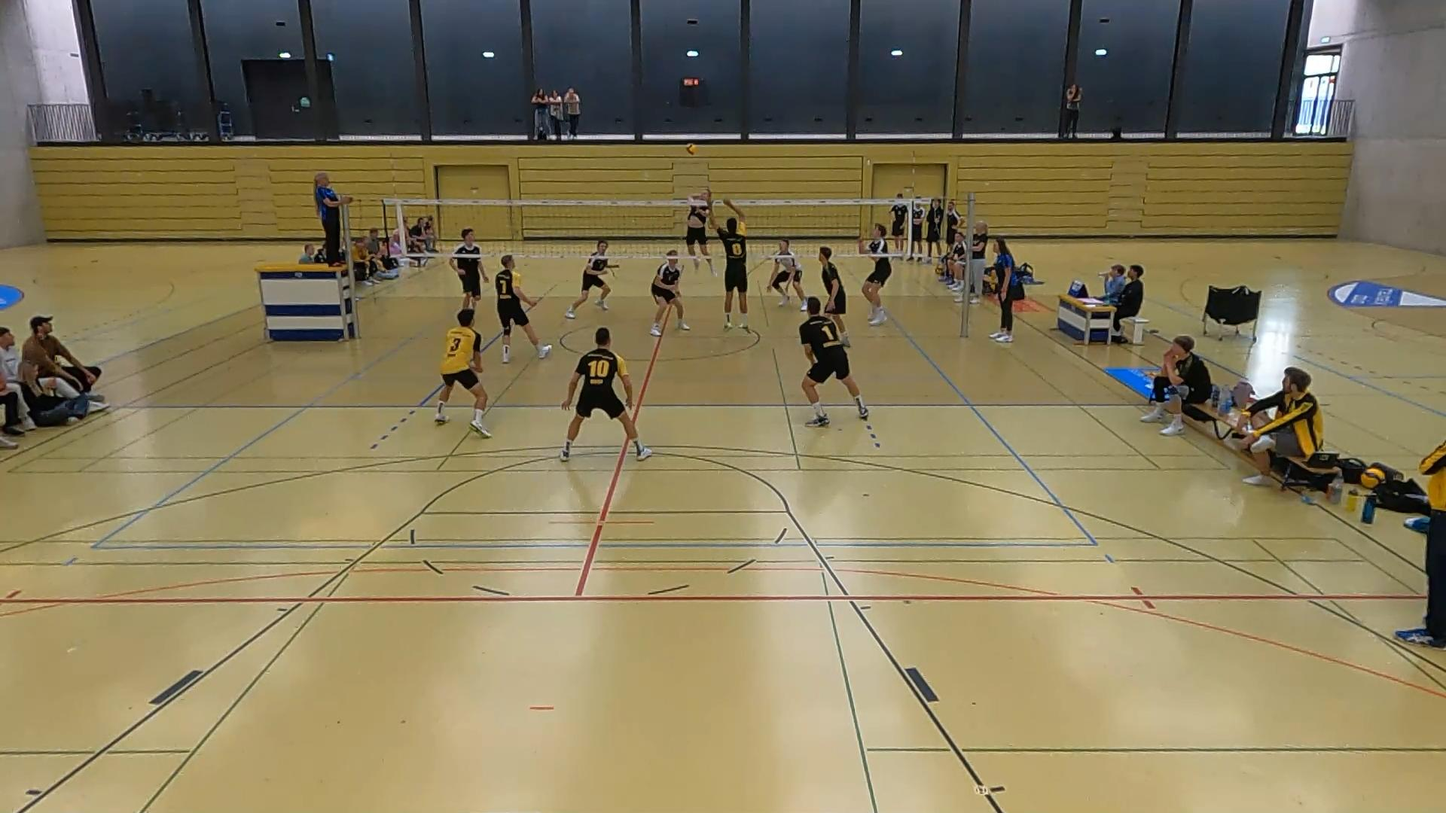Attack: (685, 186, 717, 283)
Block: (703, 189, 759, 339)
Player: (560, 327, 651, 461), (800, 297, 868, 427), (435, 309, 491, 437), (493, 255, 551, 363), (565, 240, 615, 318), (651, 249, 689, 336), (859, 224, 891, 325), (818, 246, 850, 346), (449, 228, 487, 309), (770, 239, 805, 310)
ball: (684, 139, 696, 156)
